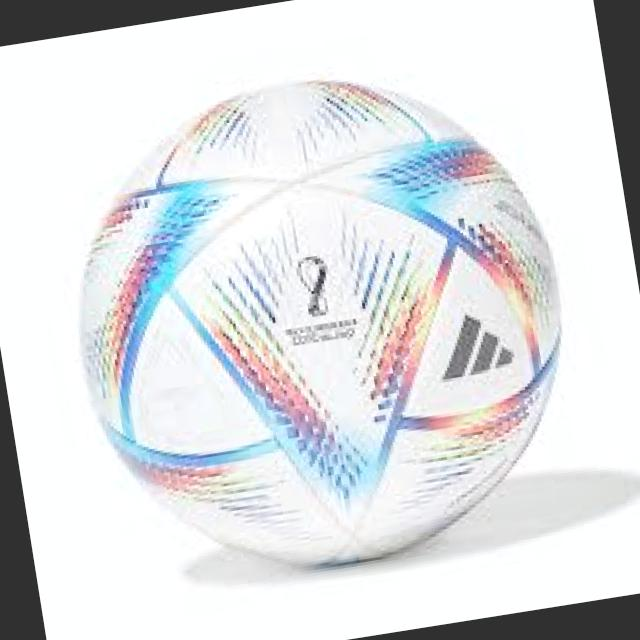ball: (34, 42, 593, 608)
